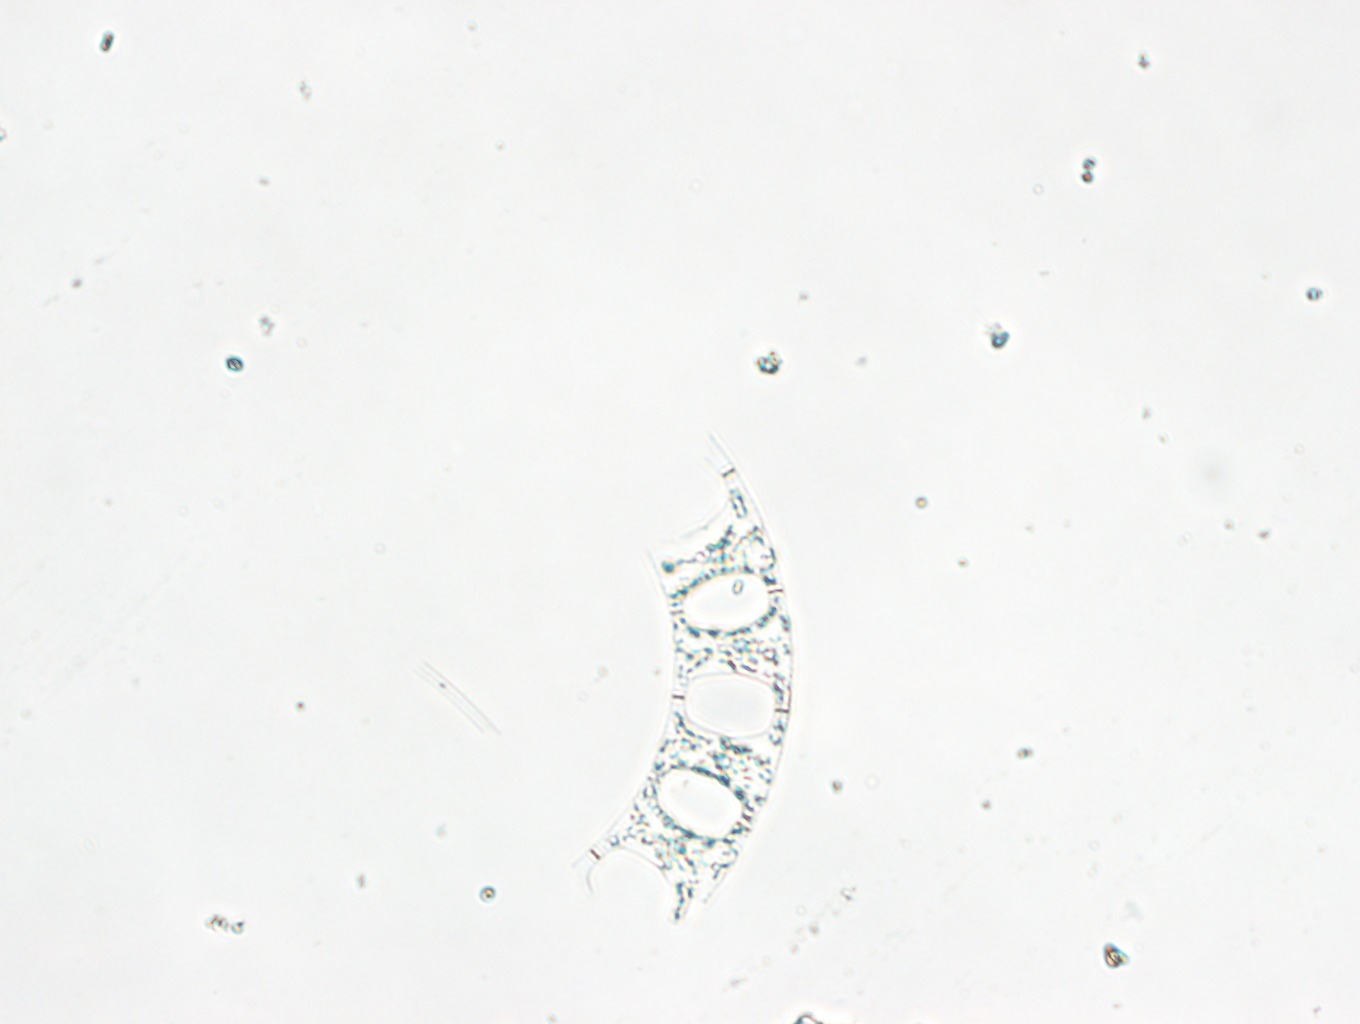eucampia: (562, 435, 791, 924)
